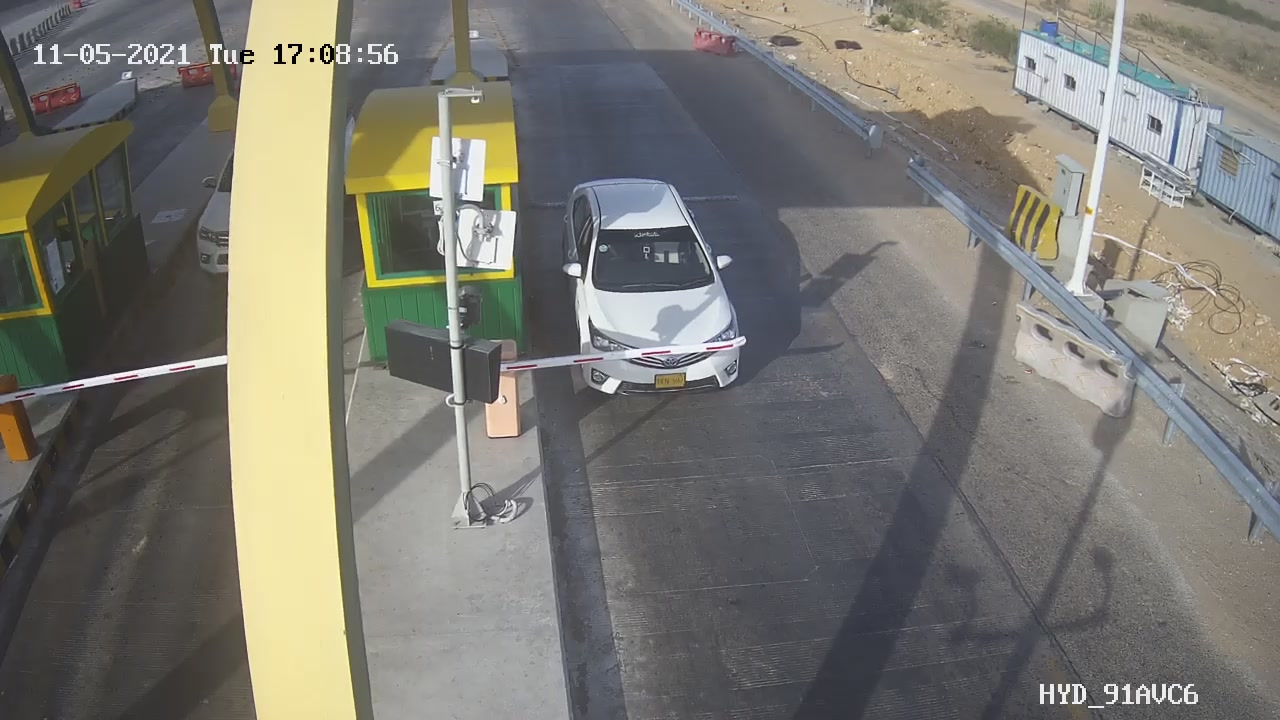F1: (537, 157, 772, 418)
